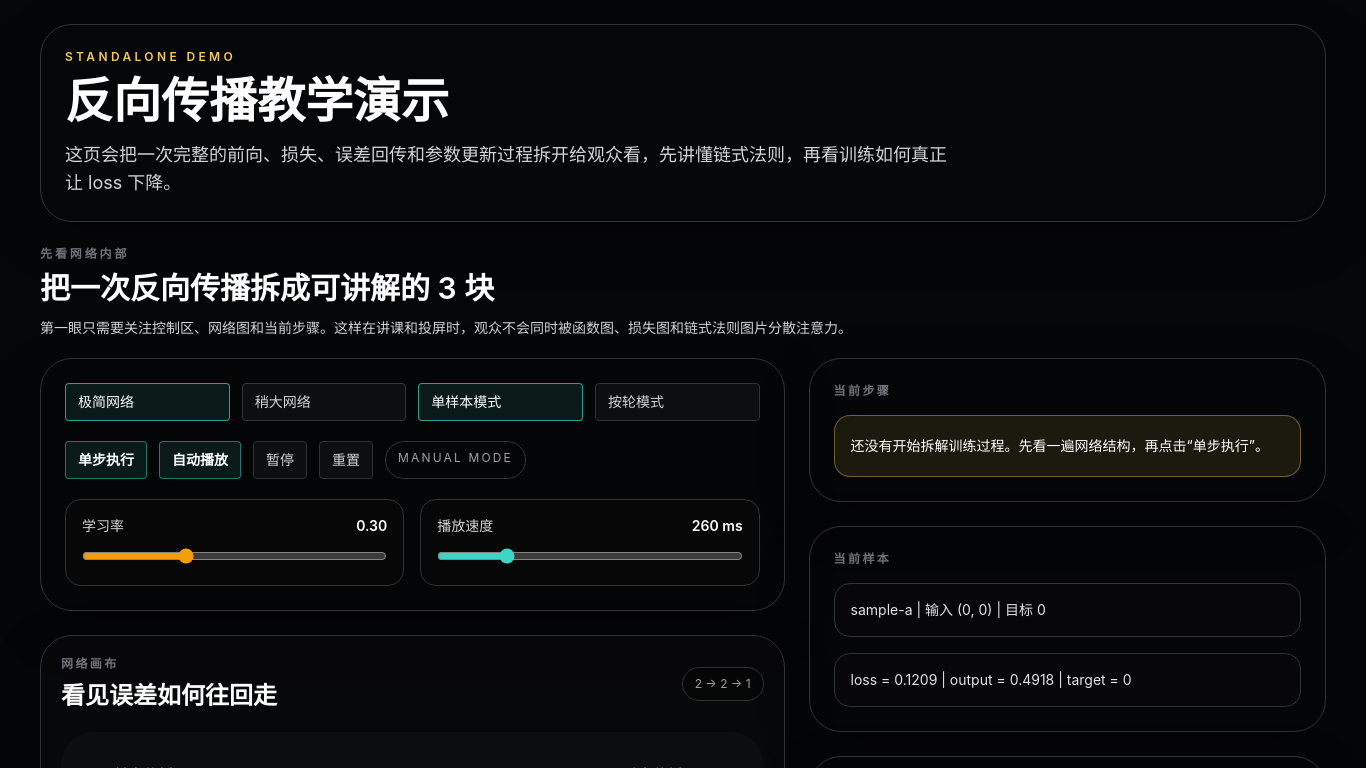
Scenario: BackpropDemoPage › stops auto play after one full single-sample walkthrough
Click the button "自动播放".
click(200, 460)  # box [159, 441, 241, 479]
Wait 1600 ms
(page scrolled)
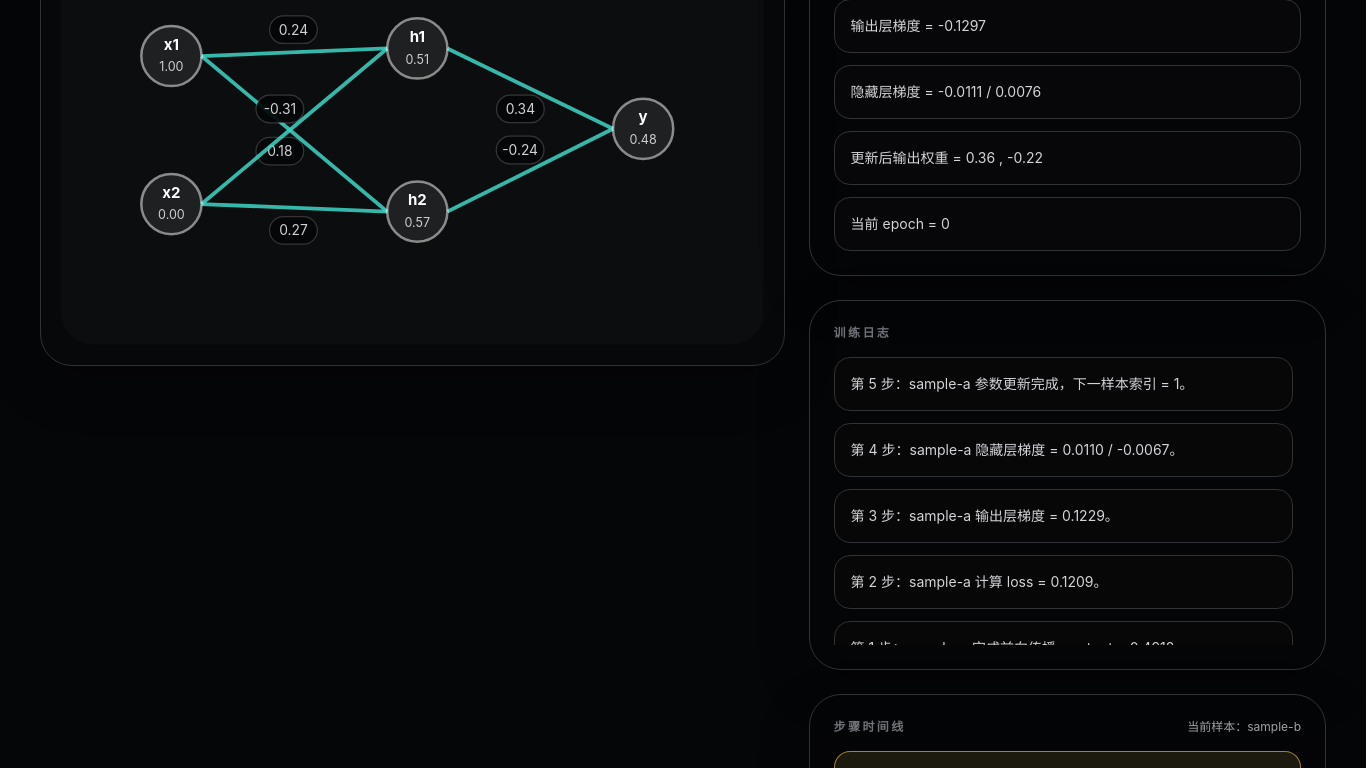
Now the text "第 5 步：sample-a 参数更新完成，下一样本索引 = 1。" is shown, box [834, 357, 1293, 411]
